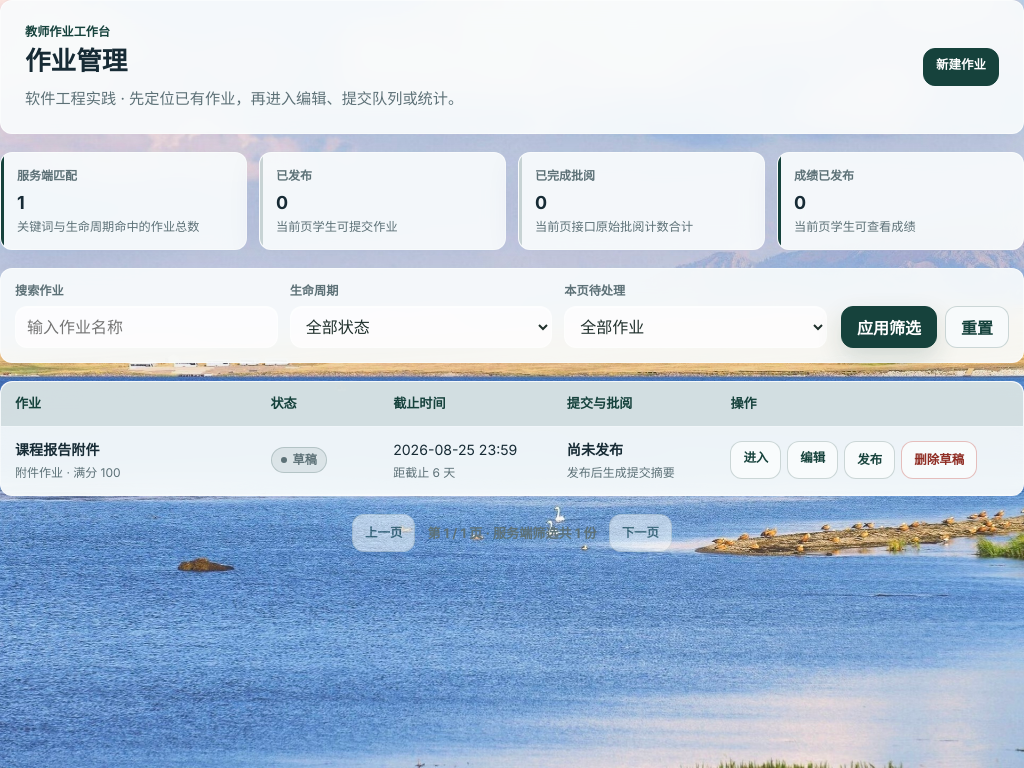
Test case: HomeworkTeacherView › publishes a FILE draft now that the secure attachment contract is available
The image size is (1024, 768).
Check: the link with test id "edit-homework-5" is shown, box [787, 441, 838, 479]
Click the button with test id "publish-homework-5" at point(870, 460), box [844, 441, 895, 479]
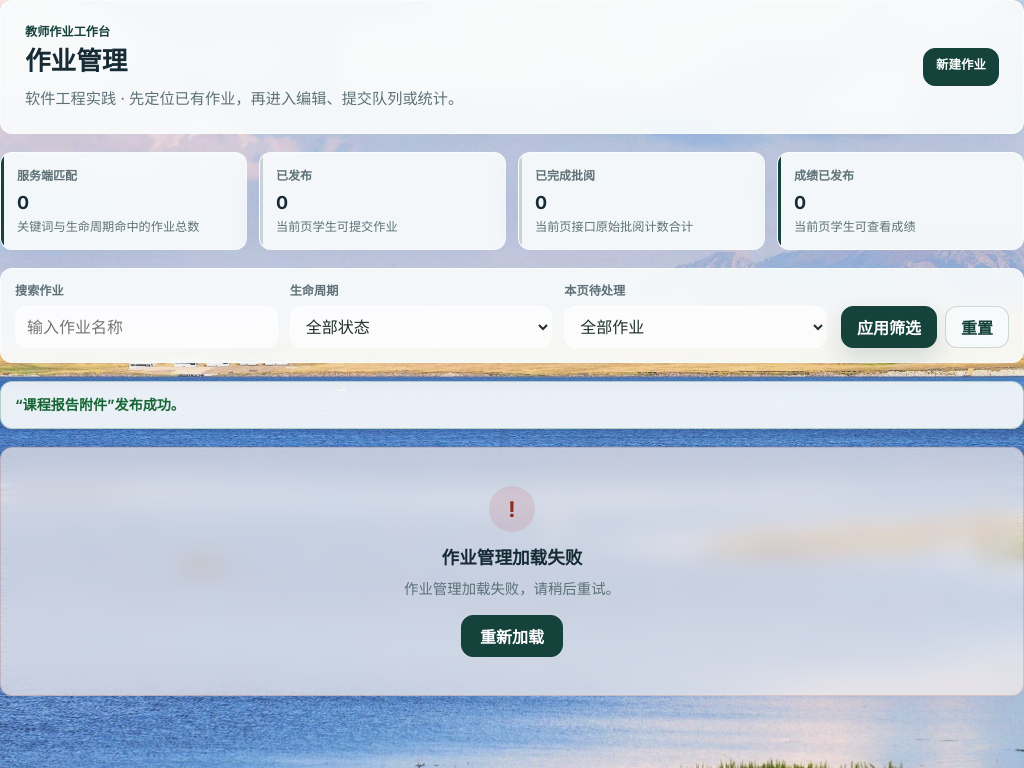
Check: the message with test id "operation-feedback" shows "发布成功", box [15, 396, 185, 413]
